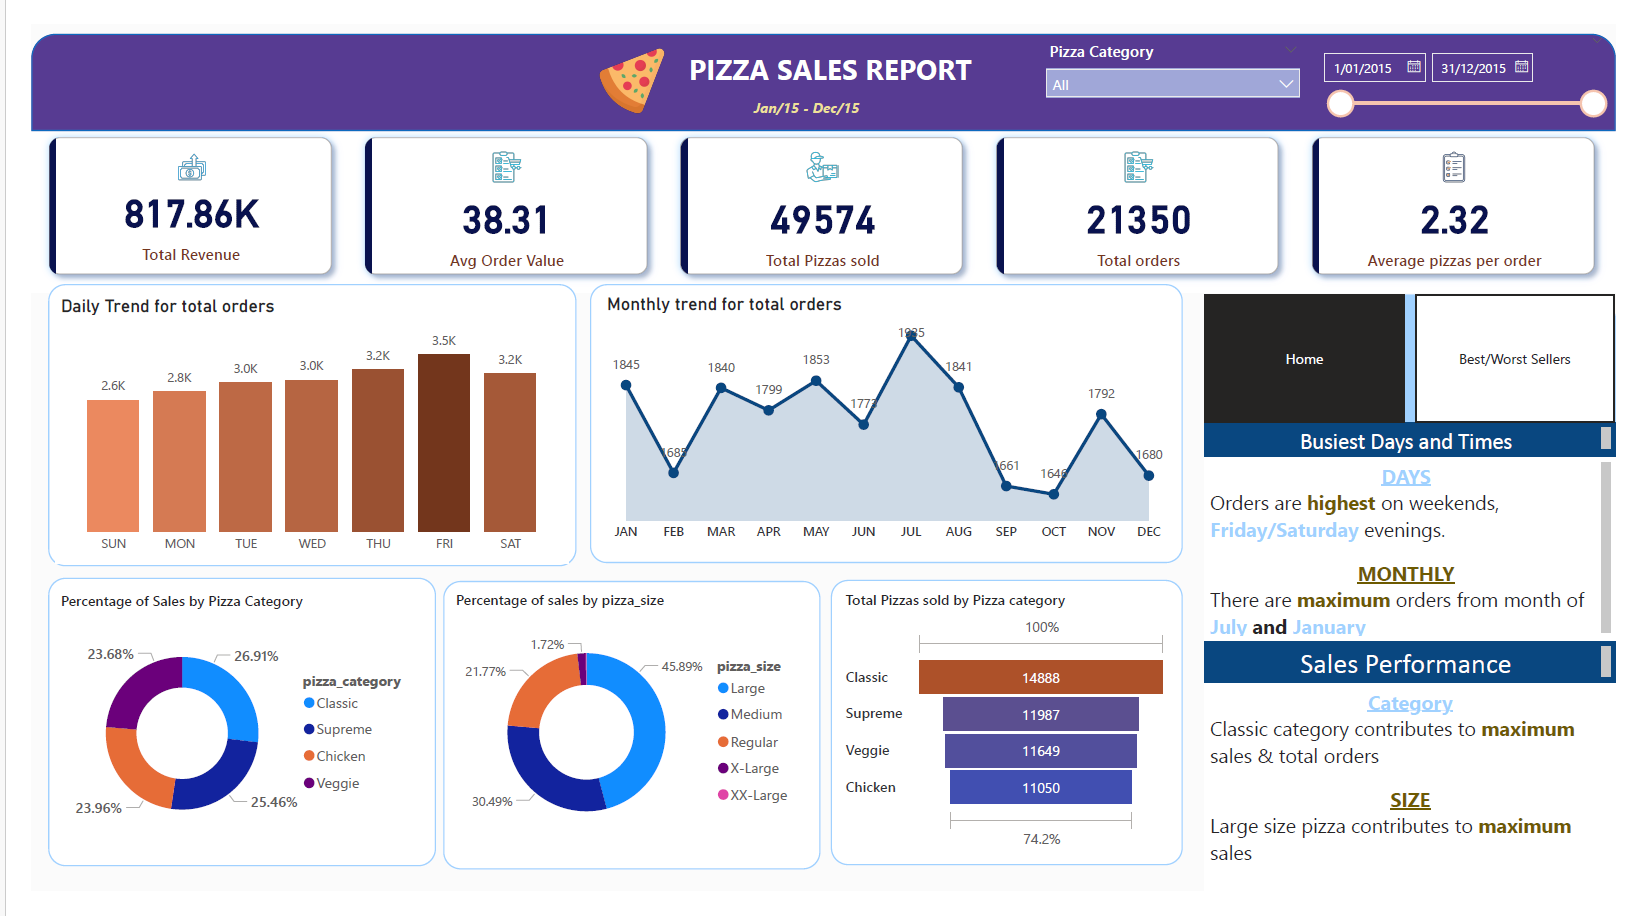

Layout of this report page (visuals, bound fields, positions):
{"tool":"powerbi","page":{"name":"Home","canvas":[1500,820],"ordinal":0},"visuals":[{"type":"cardVisual","fields":{"Data":["pizza_sales.Total Revenue","pizza_sales.Avg Order Value","pizza_sales.Total Pizzas sold","pizza_sales.Total orders","pizza_sales.Average pizzas per order"]},"box":[0,90,1500,164.3],"z":0},{"type":"shape","box":[0,8.6,1500,92.9],"z":1000},{"type":"textbox","box":[504.3,18.8,504.3,46.4],"z":2000},{"type":"textbox","box":[558,65.2,352.2,36.2],"z":3000},{"type":"image","box":[466.7,17.4,204.3,73.9],"z":4000},{"type":"shape","box":[15.7,245.7,500,267.1],"z":5000},{"type":"columnChart","title":"Daily Trend for total orders","fields":{"Category":["pizza_sales.order day"],"Y":["pizza_sales.Total orders"]},"box":[22.9,255.7,485.7,254.3],"z":6000},{"type":"shape","box":[528.6,245.7,561.4,264.3],"z":7000},{"type":"areaChart","title":"Monthly trend for total orders","fields":{"Category":["pizza_sales.Order Month"],"Y":["pizza_sales.Total orders"]},"box":[540,254.3,541.4,244.3],"z":8000},{"type":"shape","box":[15.7,524.3,367.1,272.9],"z":9000},{"type":"shape","box":[390,527.1,357.1,272.9],"z":10000},{"type":"donutChart","title":"Percentage of Sales by Pizza Category ","fields":{"Category":["pizza_sales.pizza_category"],"Y":["pizza_sales.Total Revenue"]},"box":[22.9,537.1,348.6,250],"z":11000},{"type":"donutChart","title":"Percentage of sales  by pizza_size","fields":{"Category":["pizza_sales.pizza_size"],"Y":["pizza_sales.Total Revenue"]},"box":[397.1,535.7,337.1,250],"z":12000},{"type":"shape","box":[757.1,525.7,332.9,270],"z":13000},{"type":"funnel","title":"Total Pizzas sold by Pizza category","fields":{"Category":["pizza_sales.pizza_category"],"Y":["pizza_sales.Total Pizzas sold"]},"box":[765.7,535.7,315.7,250],"z":14000},{"type":"shape","box":[1111.4,255.7,388.6,564.3],"z":15000},{"type":"textbox","box":[1111.4,377.1,388.6,32.9],"z":16000},{"type":"textbox","box":[1111.4,410,388.6,174.3],"z":17000},{"type":"textbox","box":[1111.4,584.3,388.6,40],"z":18000},{"type":"textbox","box":[1111.4,624.3,388.6,195.7],"z":19000},{"type":"slicer","fields":{"Values":["pizza_sales.pizza_category"]},"box":[951.4,10,260,91.4],"z":20000},{"type":"slicer","title":"Order date","fields":{"Values":["pizza_sales.order_date"]},"box":[1211.4,8.6,288.6,92.9],"z":21000},{"type":"pageNavigator","box":[1111.4,255.7,388.6,121.4],"z":22000}]}

Visuals, with their boxes in screenshot pixels (x1, y1, x2, y2), scaled from the page's 1500x820 canvas onto the 1640x916 screenshot:
cardVisual - pizza_sales.Total Revenue x pizza_sales.Avg Order Value: {"left": 0, "top": 101, "right": 1639, "bottom": 284}
shape: {"left": 0, "top": 10, "right": 1639, "bottom": 113}
textbox: {"left": 551, "top": 21, "right": 1103, "bottom": 73}
textbox: {"left": 610, "top": 73, "right": 995, "bottom": 113}
image: {"left": 510, "top": 19, "right": 734, "bottom": 102}
shape: {"left": 17, "top": 274, "right": 564, "bottom": 573}
"Daily Trend for total orders" columnChart: {"left": 25, "top": 286, "right": 556, "bottom": 570}
shape: {"left": 578, "top": 274, "right": 1192, "bottom": 570}
"Monthly trend for total orders" areaChart: {"left": 590, "top": 284, "right": 1182, "bottom": 557}
shape: {"left": 17, "top": 586, "right": 419, "bottom": 891}
shape: {"left": 426, "top": 589, "right": 817, "bottom": 894}
"Percentage of Sales by Pizza Category " donutChart: {"left": 25, "top": 600, "right": 406, "bottom": 879}
"Percentage of sales  by pizza_size" donutChart: {"left": 434, "top": 598, "right": 803, "bottom": 878}
shape: {"left": 828, "top": 587, "right": 1192, "bottom": 889}
"Total Pizzas sold by Pizza category" funnel: {"left": 837, "top": 598, "right": 1182, "bottom": 878}
shape: {"left": 1215, "top": 286, "right": 1639, "bottom": 915}
textbox: {"left": 1215, "top": 421, "right": 1639, "bottom": 458}
textbox: {"left": 1215, "top": 458, "right": 1639, "bottom": 653}
textbox: {"left": 1215, "top": 653, "right": 1639, "bottom": 697}
textbox: {"left": 1215, "top": 697, "right": 1639, "bottom": 915}
slicer - pizza_sales.pizza_category: {"left": 1040, "top": 11, "right": 1324, "bottom": 113}
"Order date" slicer: {"left": 1324, "top": 10, "right": 1639, "bottom": 113}
pageNavigator: {"left": 1215, "top": 286, "right": 1639, "bottom": 421}
